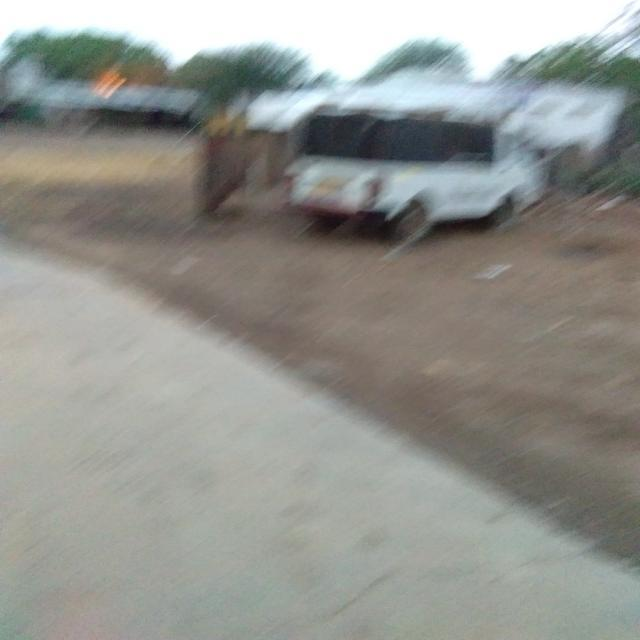Travller: (288, 90, 570, 248)
